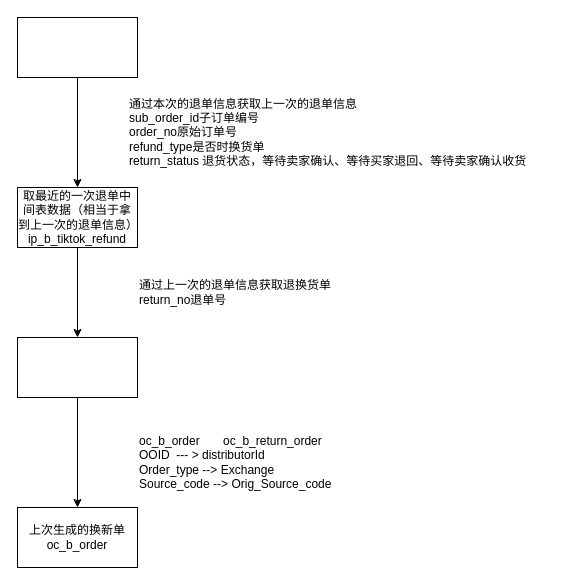
Some shapes in this 575 by 585 pixel diagram are drawn without their labels. The shapes that lost their labels are listed below. From the top down, each one's centre as x and y in pixels, then its label:
At point 77,47: "收到第二次或者第三次退单请求 ip_b_tiktok_refund".
At point 77,367: "上一次退单转换成功之后的退换货单 oc_b_return_order".
